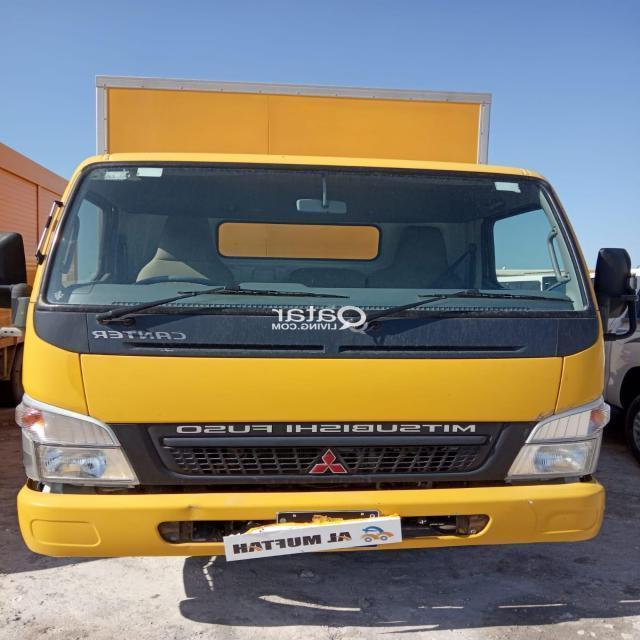truck: (8, 49, 632, 578)
